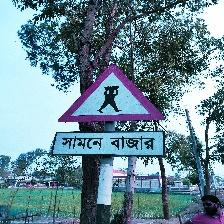Market-in-front: (54, 62, 168, 159)
